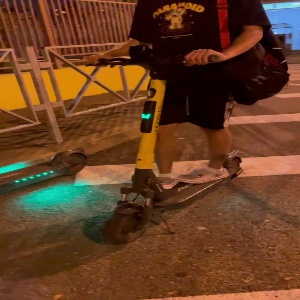human on a scooter: (80, 1, 292, 245)
